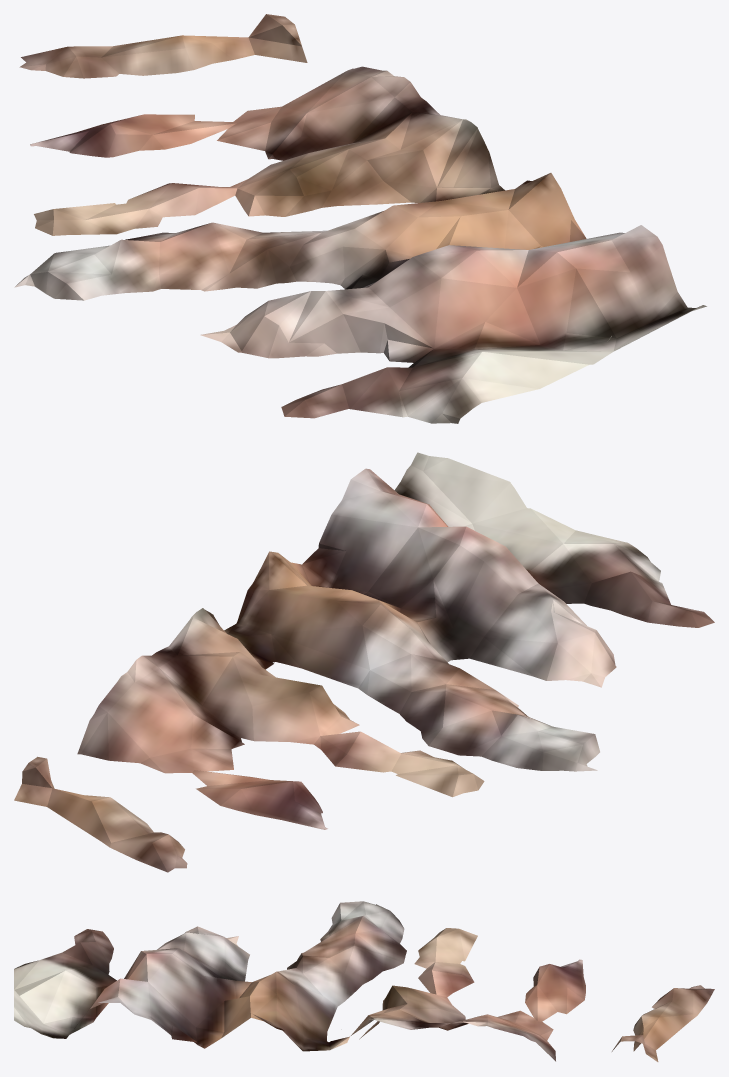
3 renders of one model, top to bottom at view 1: azimuth 30°, elevation 25°; view 2: azimuth 150°, elevation 25°; view 3: azimuth 270°, elevation 25°, orthographic. The views are drawn at different scales.
Bounding box in the file's own units: 0.5946 × 0.1041 × 1.11.
Materials: 1 (1 with a texture image).
